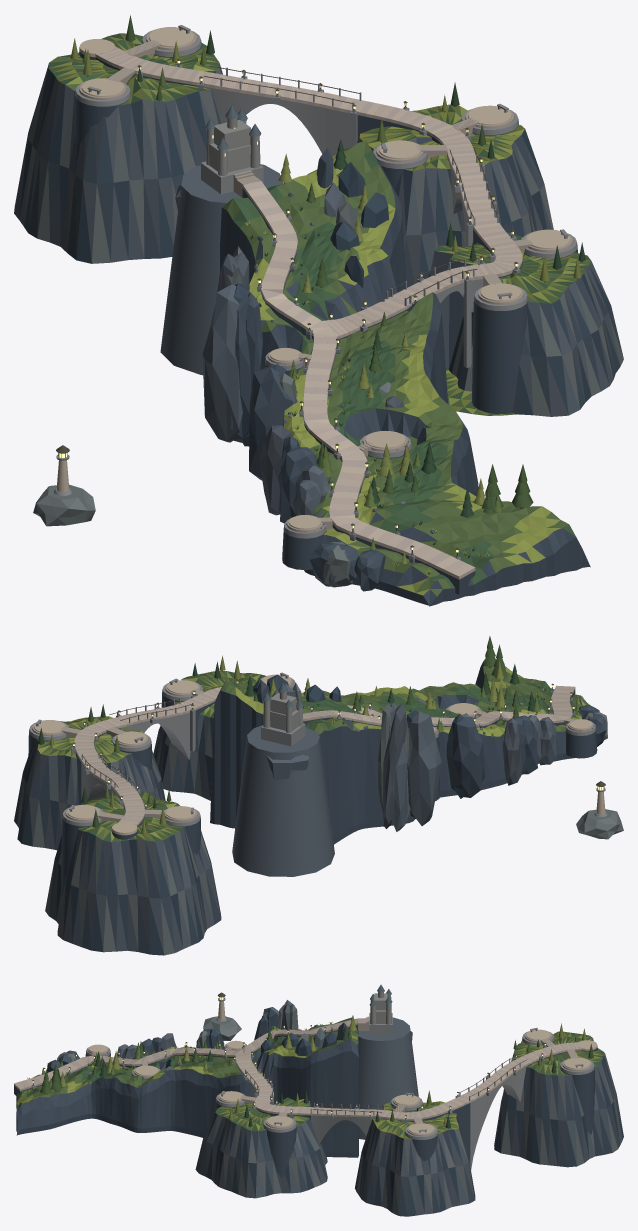
File: coast-lit.glb
3 views of the same model, one above another, from view 1: azimuth 30°, elevation 25°; view 2: azimuth 150°, elevation 25°; view 3: azimuth 270°, elevation 25° (orthographic). The views are drawn at different scales.
Visible parts, largest first — view 1: Baked landscape.003, Baked paving.003, Baked foliage.003; view 2: Baked landscape.003, Baked paving.003, Baked foliage.003; view 3: Baked landscape.003, Baked paving.003, Baked foliage.003.
Part boxes in pixels (x1,y1,x2,y2): Baked landscape.003: (14, 33, 623, 606); Baked paving.003: (54, 25, 577, 579); Baked foliage.003: (56, 15, 585, 574); Baked landscape.003: (14, 658, 623, 955); Baked paving.003: (29, 672, 607, 835); Baked foliage.003: (38, 636, 605, 834); Baked landscape.003: (14, 984, 623, 1216); Baked paving.003: (14, 998, 597, 1139); Baked foliage.003: (24, 992, 593, 1128).
Bounding box in the file's own units: 92.21 × 31.67 × 125.
